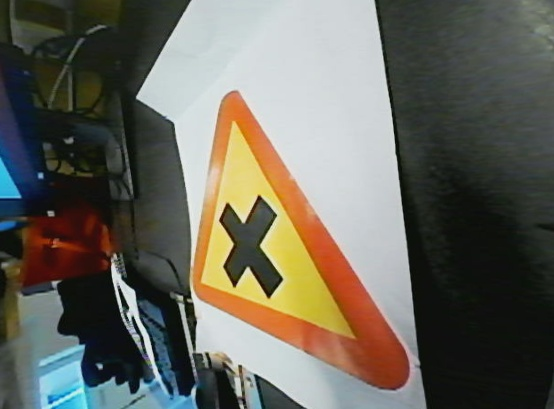junction: (174, 87, 414, 394)
